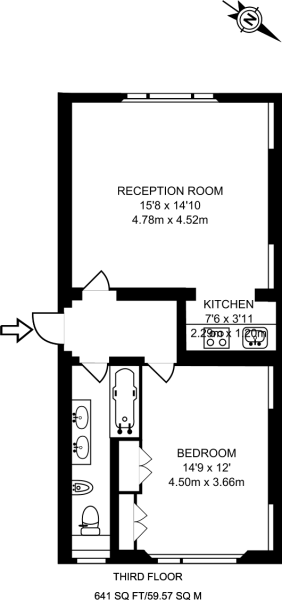GrossArea: (89, 566, 207, 600)
